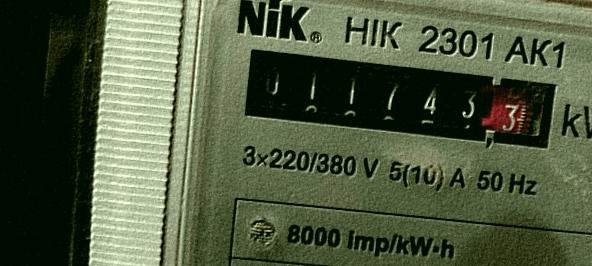0: (260, 62, 283, 100)
1: (343, 71, 361, 107), (306, 68, 320, 101)
3: (456, 86, 479, 122), (499, 102, 520, 137)
4: (419, 82, 440, 118)
7: (381, 77, 402, 113)
screen: (228, 36, 570, 163)
